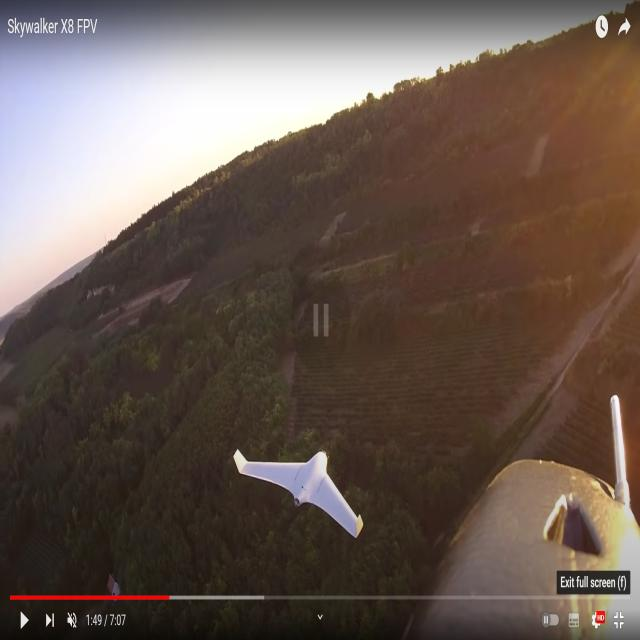iha: (236, 481, 364, 503)
